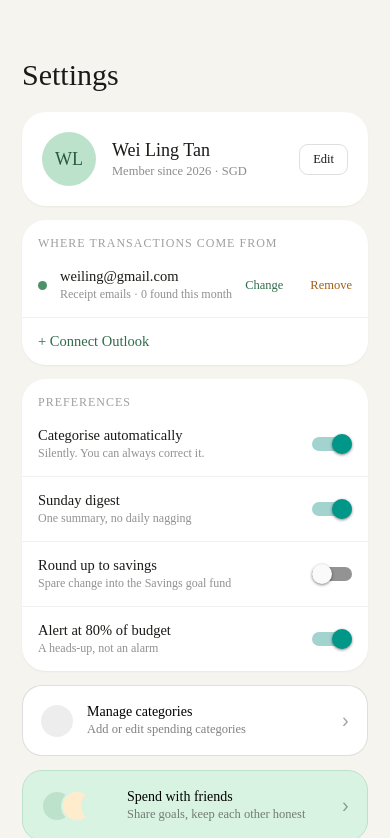
Test: removing a linked account confirms, then unlinks it while keeping the app usable
Click the text with test id "remove-7" at coordinates (331, 285), box left=310, top=278, right=352, bottom=292
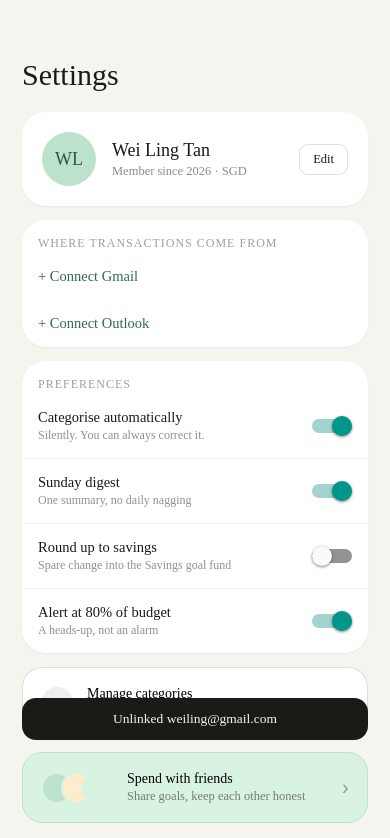
Now the text "+ Connect Gmail" is shown, box left=38, top=268, right=138, bottom=284
